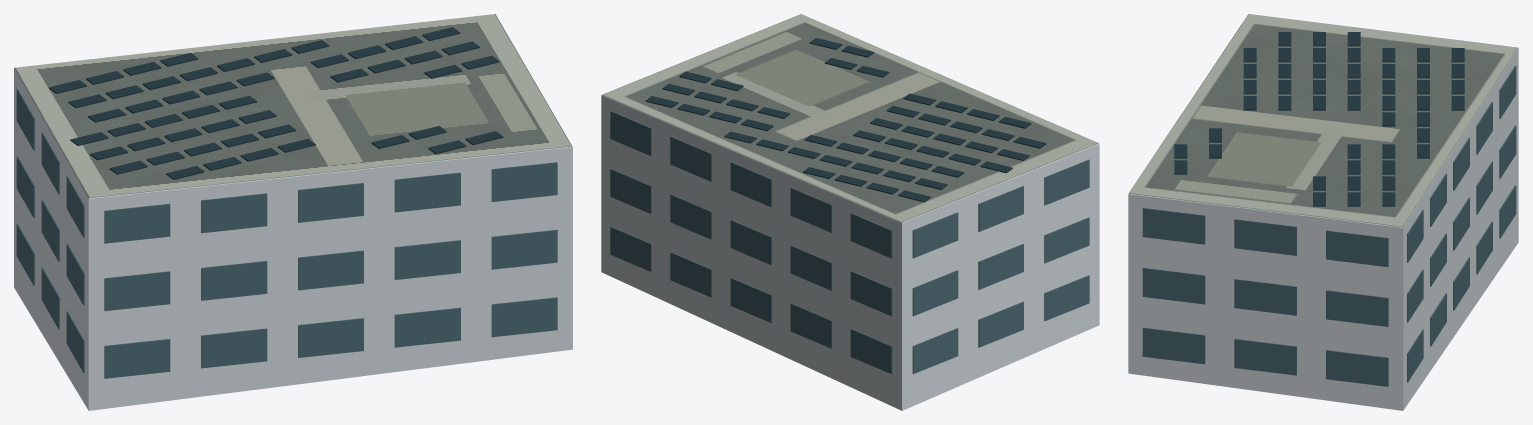
Rendered from intact.glb.
The picture shows the model from 3 angles, left to right: view 1: azimuth 30°, elevation 25°; view 2: azimuth 150°, elevation 25°; view 3: azimuth 270°, elevation 25°; orthographic projection. The views are drawn at different scales.
Parts seen in each view (by area): view 1: SM_apple_Intact_00, SM_apple_Intact_01, SM_apple_Intact_02; view 2: SM_apple_Intact_00, SM_apple_Intact_01, SM_apple_Intact_02; view 3: SM_apple_Intact_00, SM_apple_Intact_01, SM_apple_Intact_02.
Boxes of the visible parts, x1=… form: SM_apple_Intact_00: x1=14, y1=14, x2=572, y2=410; SM_apple_Intact_01: x1=16, y1=88, x2=557, y2=378; SM_apple_Intact_02: x1=49, y1=27, x2=503, y2=179; SM_apple_Intact_00: x1=601, y1=14, x2=1099, y2=410; SM_apple_Intact_01: x1=610, y1=111, x2=1089, y2=374; SM_apple_Intact_02: x1=645, y1=38, x2=1046, y2=202; SM_apple_Intact_00: x1=1128, y1=14, x2=1518, y2=410; SM_apple_Intact_01: x1=1142, y1=65, x2=1516, y2=386; SM_apple_Intact_02: x1=1174, y1=32, x2=1464, y2=206.
Size of the model in its own units: 2.2 by 0.9416 by 1.7.
5 materials, 1 textured.
